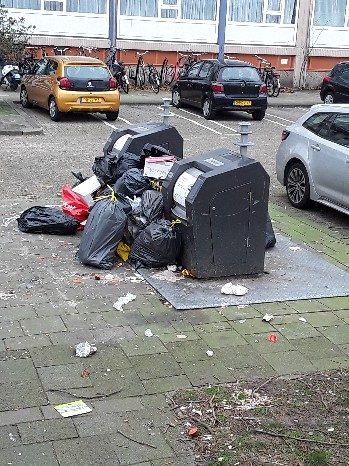Container: (177, 157, 291, 285), (117, 122, 179, 152)
Rest: (90, 201, 129, 273), (135, 218, 174, 266), (116, 167, 157, 208), (52, 193, 91, 235), (27, 194, 63, 233), (94, 150, 128, 187), (69, 179, 112, 208), (140, 188, 176, 219)
Voertuig: (29, 48, 142, 133), (168, 53, 257, 116), (287, 104, 349, 189), (321, 62, 349, 107)
